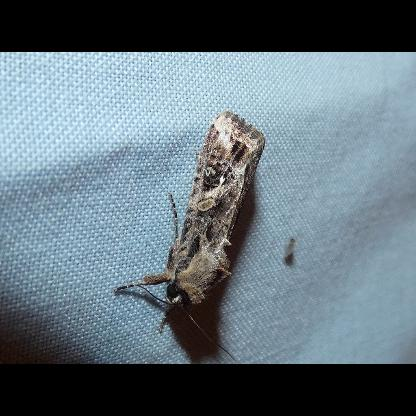Fall Armyworm Moth: (112, 107, 268, 364)
